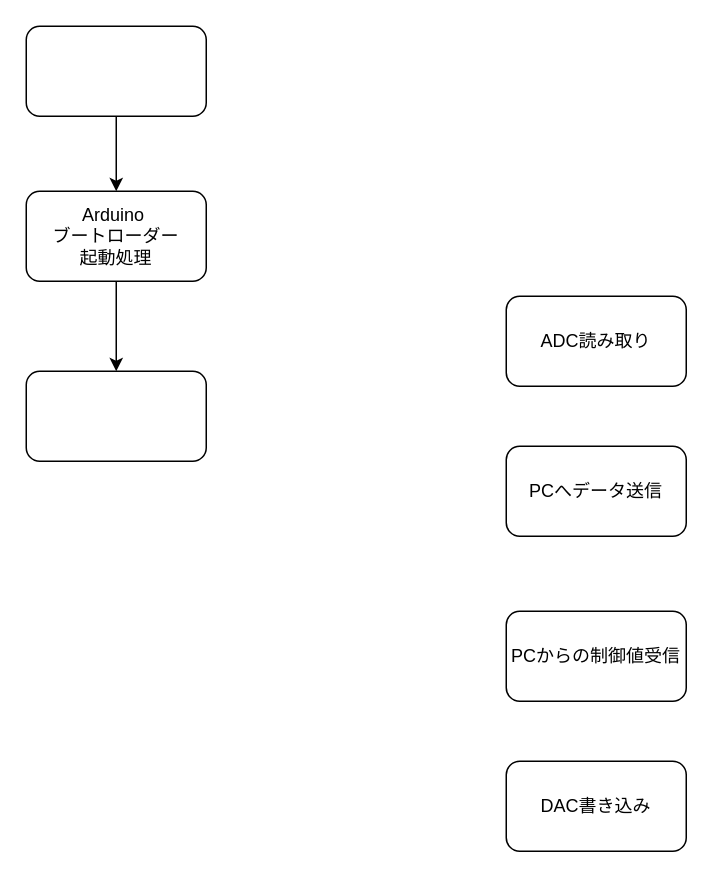
The diagram is 713 pixels wide and 878 high, and some of its shapes have lost their labels. The shapes that lost their labels are listed below. From the top down, each one's centre as x and y in pixels, then its label:
[115,70]: 電源投入
[115,415]: メインループ
